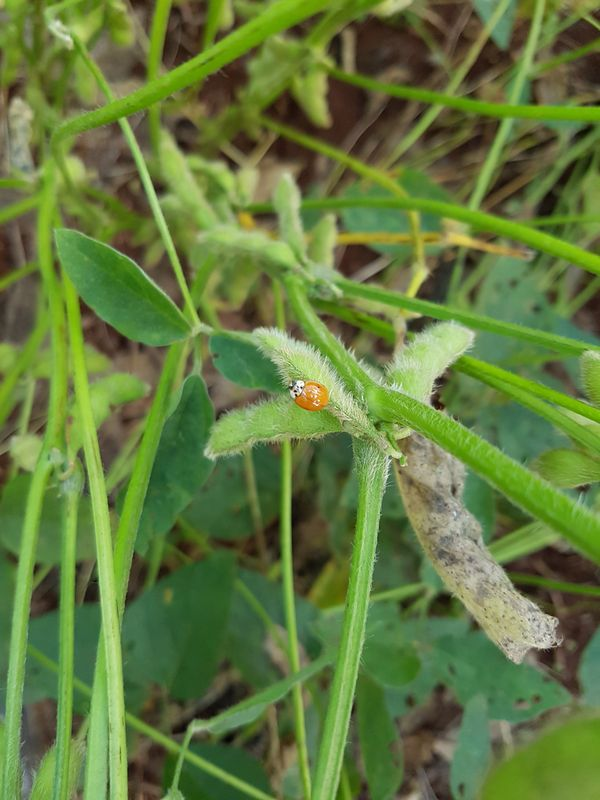Coccinellidae: (277, 366, 341, 423)
